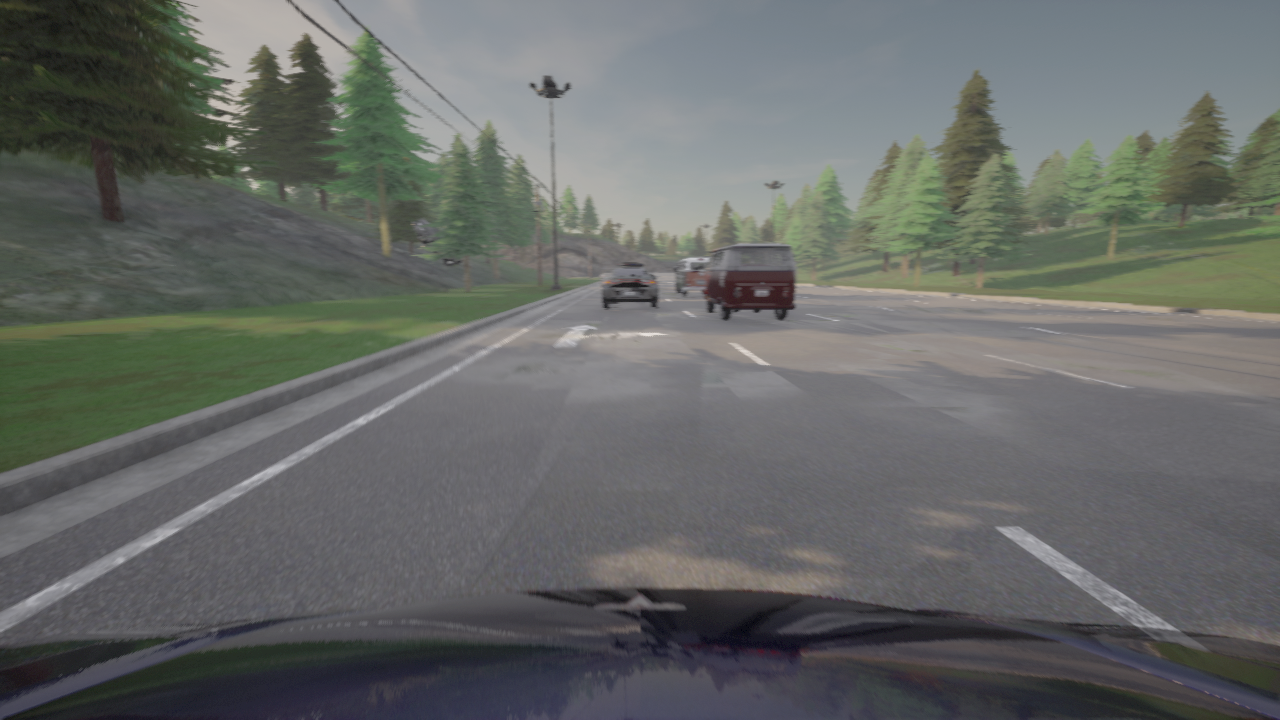cyclist: (0, 588, 1279, 719), (703, 242, 795, 319), (412, 218, 463, 266), (602, 264, 658, 307), (674, 256, 709, 295), (601, 267, 614, 287), (675, 269, 676, 271)
